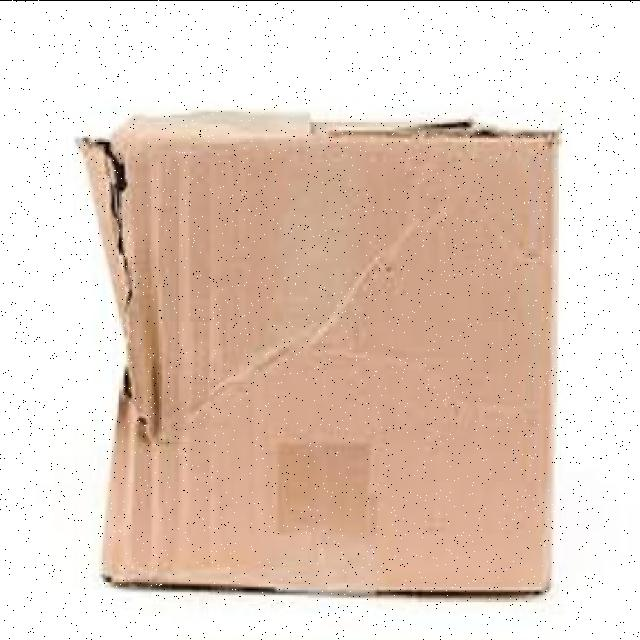defect: (72, 98, 568, 610)
